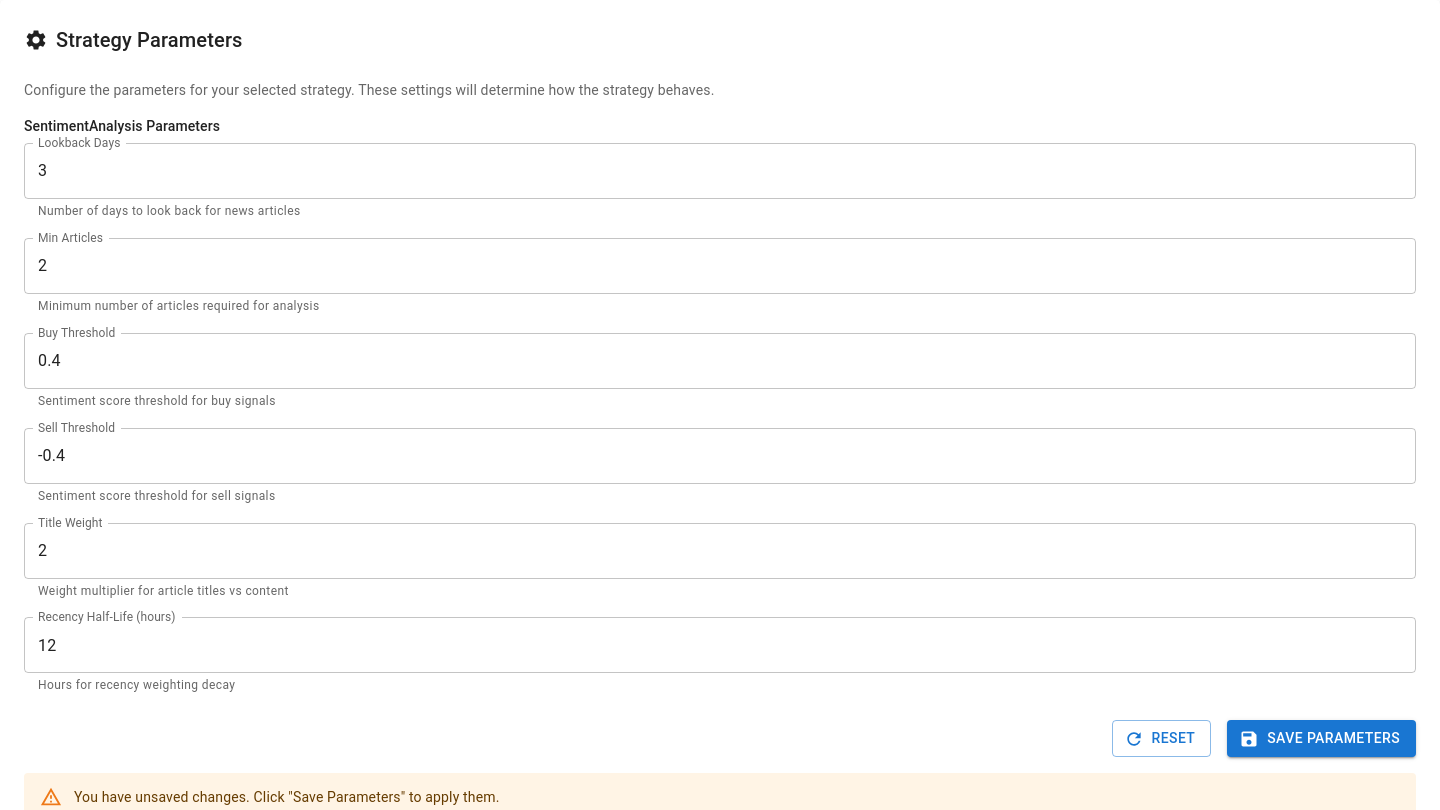
Test case: StrategyParameters Component › Validation Logic › should treat empty string as invalid number for required number fields
This screenshot has width=1440, height=810.
// Set to empty string
Clear the number field labelled "Lookback Days". click: (720, 171)
box: x1=24 y1=143 x2=1416 y2=199
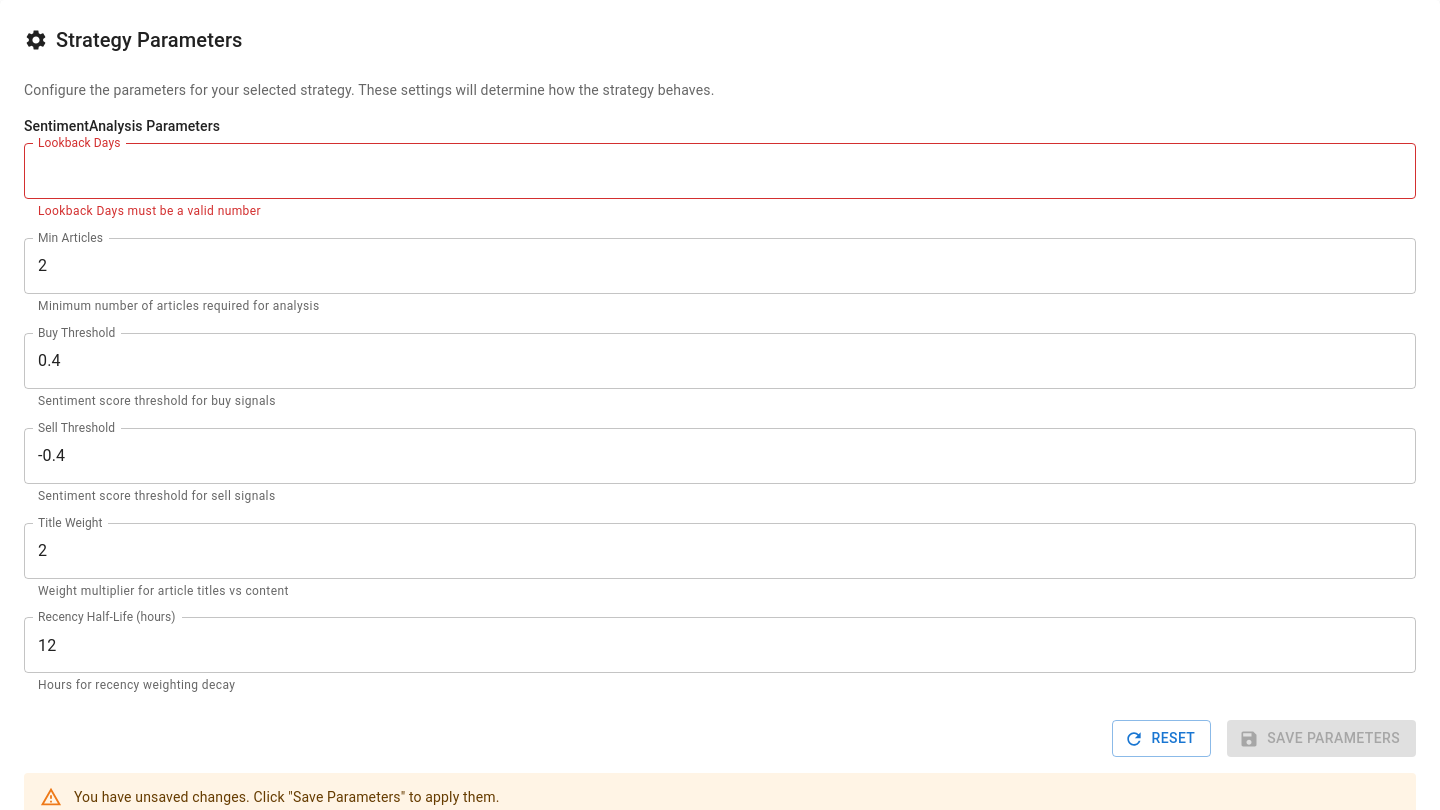
Now the text "Lookback Days must be a valid number" is shown, box x1=38 y1=204 x2=261 y2=218
